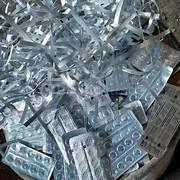pill_Strip: (139, 99, 179, 157), (2, 143, 55, 179)
